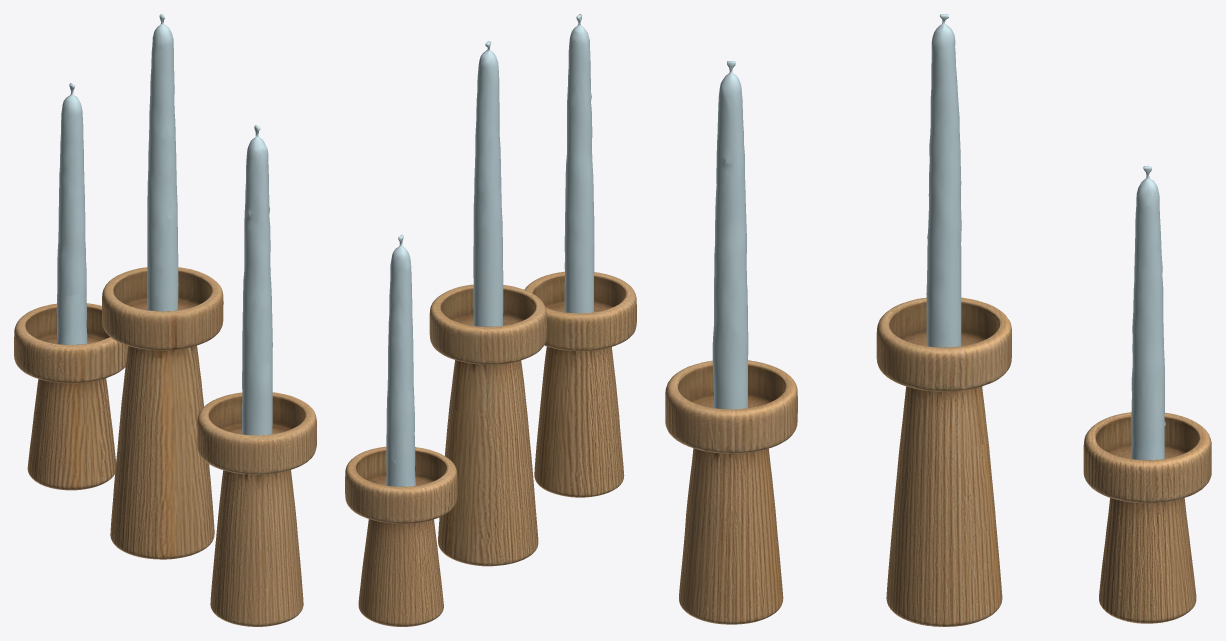
File: decor-candlestick-wood.glb
3 renders of one model, left to right at view 1: azimuth 30°, elevation 25°; view 2: azimuth 150°, elevation 25°; view 3: azimuth 270°, elevation 25°, orthographic. The views are drawn at different scales.
Parts seen in each view (by area): view 1: tripo_node_ee5617b8-f5f3-4bae-97df-64d328181e08; view 2: tripo_node_ee5617b8-f5f3-4bae-97df-64d328181e08; view 3: tripo_node_ee5617b8-f5f3-4bae-97df-64d328181e08.
Boxes of the visible parts, <box> form: tripo_node_ee5617b8-f5f3-4bae-97df-64d328181e08: <box>14,14,316,626</box>; tripo_node_ee5617b8-f5f3-4bae-97df-64d328181e08: <box>345,14,636,626</box>; tripo_node_ee5617b8-f5f3-4bae-97df-64d328181e08: <box>665,14,1211,626</box>.
Size of the model in its own units: 0.063 by 0.3 by 0.2509.
Materials: 2 (1 with a texture image).
